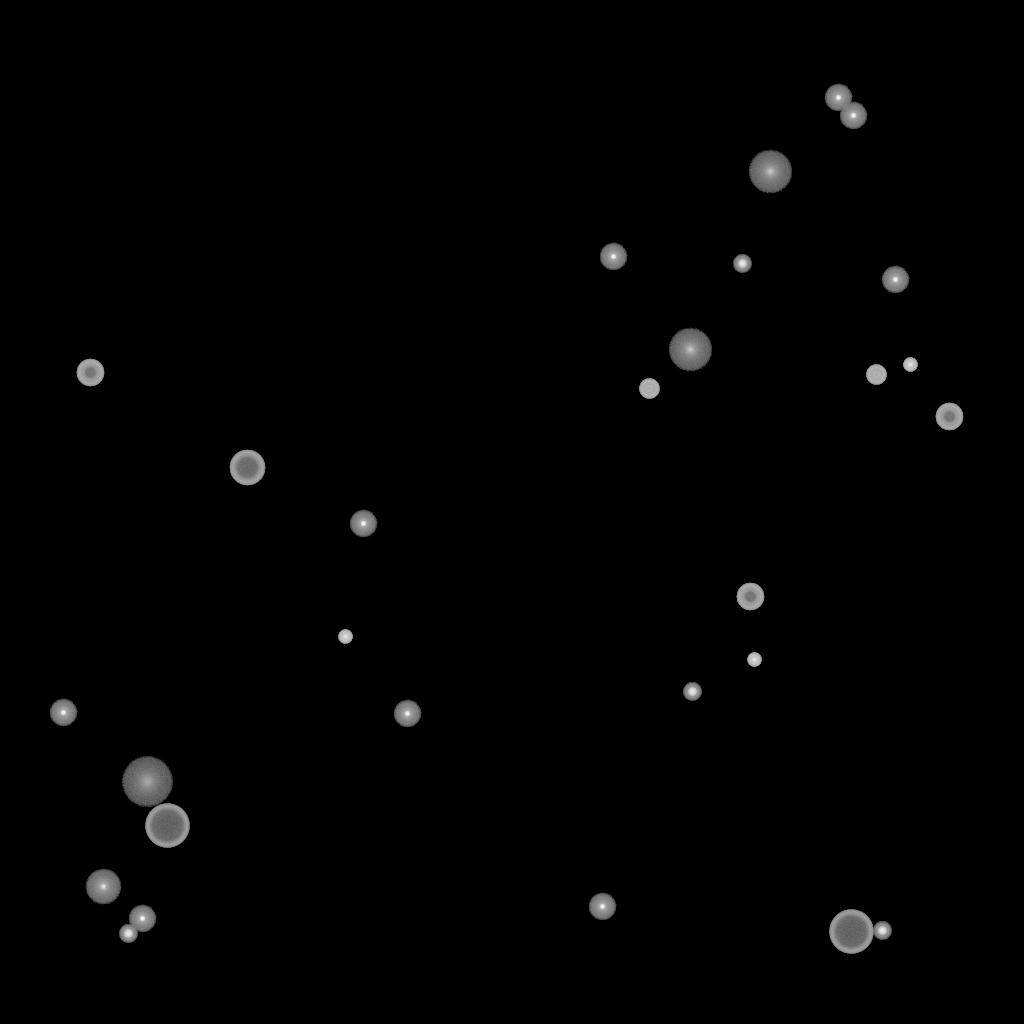depth:-10: (881, 266, 909, 294), (128, 905, 156, 933), (824, 84, 852, 112), (839, 102, 867, 130), (599, 243, 627, 271), (393, 700, 421, 728), (588, 893, 616, 921), (349, 510, 377, 538), (49, 699, 77, 727)
depth:-20: (119, 925, 137, 943), (733, 255, 751, 273), (683, 683, 701, 701), (873, 922, 891, 940)
depth:-30: (903, 358, 917, 372), (338, 630, 352, 644), (747, 653, 761, 667)
depth:-40: (639, 379, 659, 399), (866, 365, 886, 385)
depth:-50: (736, 583, 764, 611), (76, 359, 104, 387), (935, 403, 963, 431)
depth:-60: (229, 450, 265, 486)
depth:-70: (145, 804, 189, 848), (829, 910, 873, 954)
depth:0: (85, 869, 121, 905)
depth:10: (668, 328, 712, 372), (748, 150, 792, 194)
depth:20: (121, 757, 173, 807)
